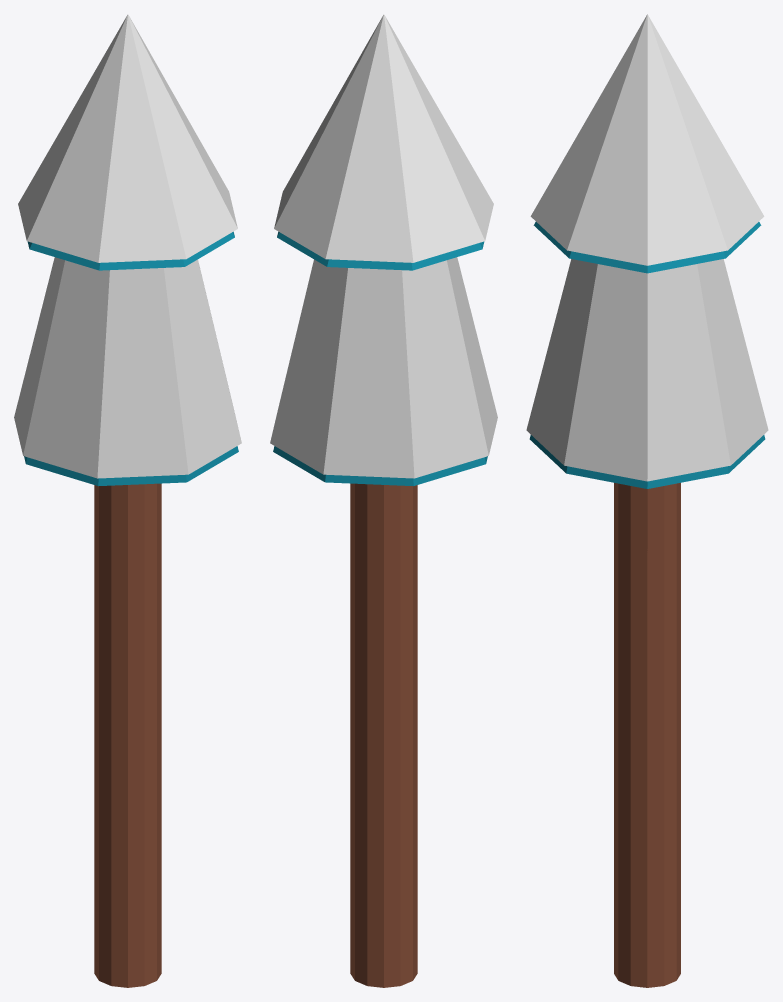
The model's file is Tree_21_winter_blue.fbx.
3 renders of one model, left to right at view 1: azimuth 30°, elevation 25°; view 2: azimuth 150°, elevation 25°; view 3: azimuth 270°, elevation 25°, orthographic.
Visible parts, largest first — view 1: Tree_21_winter_blue; view 2: Tree_21_winter_blue; view 3: Tree_21_winter_blue.
Part boxes in pixels (left/top/right/bottom): Tree_21_winter_blue: left=14, top=14, right=241, bottom=987; Tree_21_winter_blue: left=270, top=14, right=497, bottom=987; Tree_21_winter_blue: left=526, top=14, right=768, bottom=987.
Size of the model in its own units: 80.03 by 350 by 80.03.
